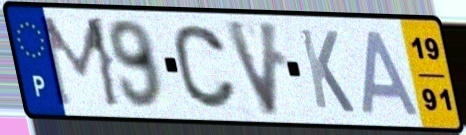9: (105, 16, 170, 113)
A: (360, 27, 424, 118)
C: (170, 21, 239, 112)
K: (296, 25, 358, 117)
M: (37, 14, 126, 112)
V: (220, 16, 283, 120)
